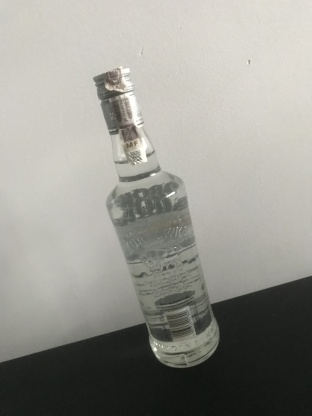nakretka: (91, 63, 145, 137)
